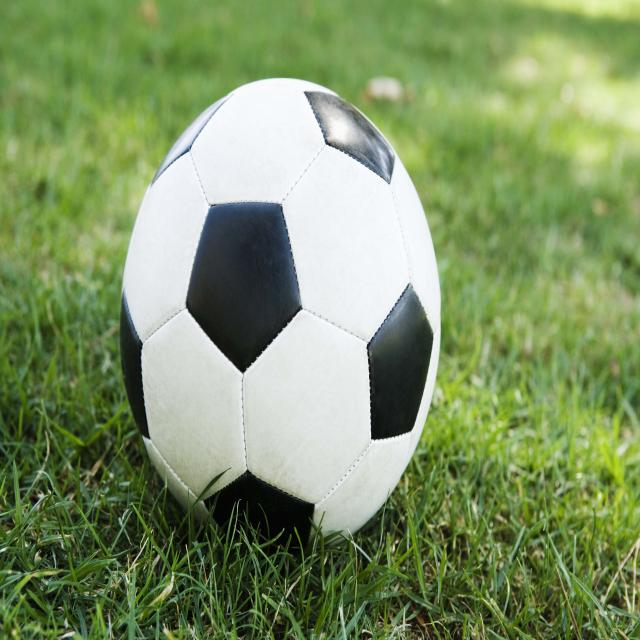soccer ball: (121, 80, 441, 556)
